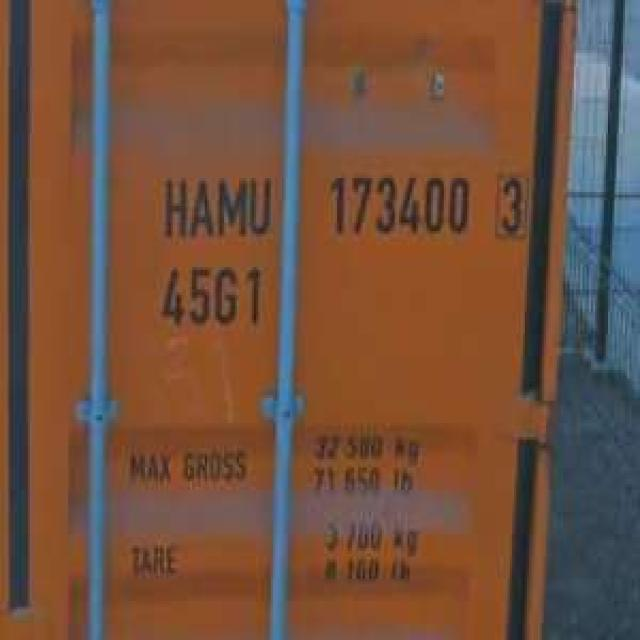dv: (491, 168, 534, 244)
owner: (158, 164, 271, 242)
serial: (322, 162, 474, 240)
size: (154, 256, 266, 331)
